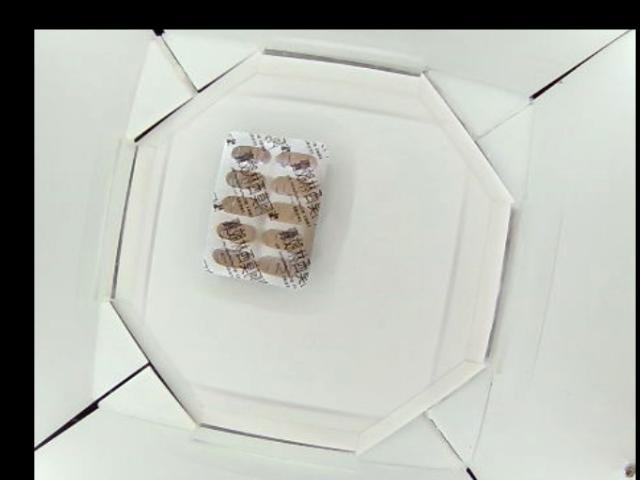Medicine: (200, 130, 329, 288)
